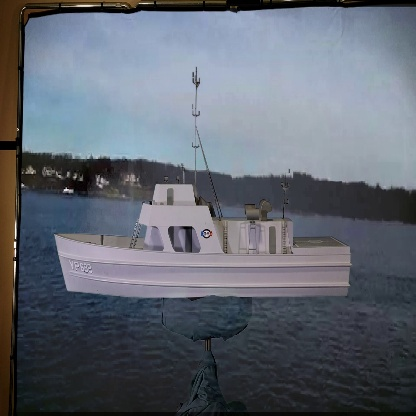YP689: (44, 54, 360, 301)
